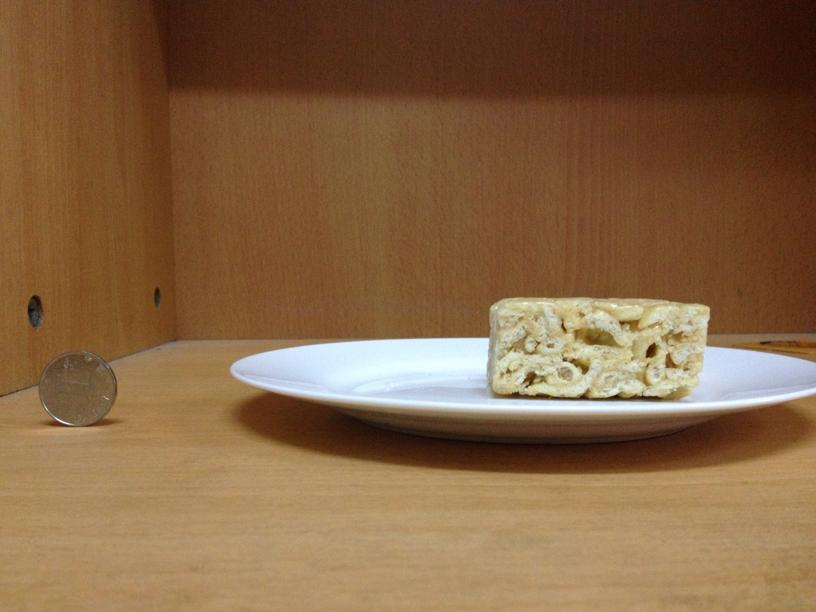coin: (38, 351, 117, 428)
sachima: (481, 298, 707, 396)
